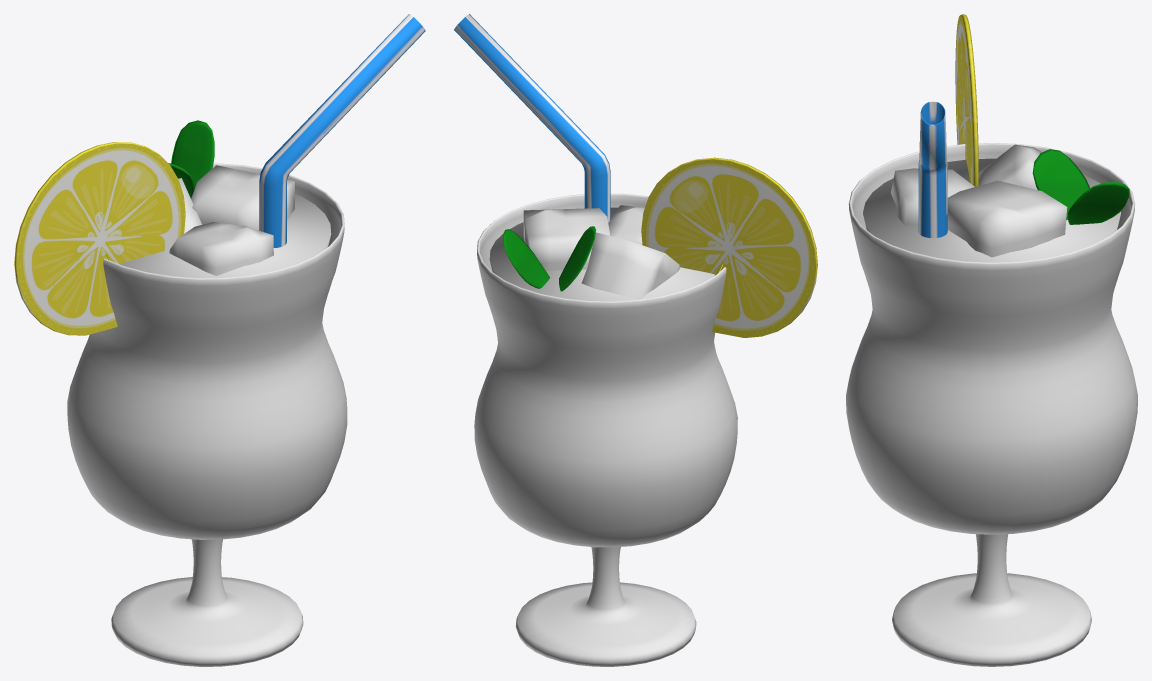
The model's file is blue hawaii_25-04-2022.fbx.
3 renders of one model, left to right at view 1: azimuth 30°, elevation 25°; view 2: azimuth 150°, elevation 25°; view 3: azimuth 270°, elevation 25°, orthographic. The views are drawn at different scales.
Parts seen in each view (by area): view 1: Cylinder, winter, Cube.002, straw, Cylinder.001, leaf.001; view 2: Cylinder, winter, Cube.002, straw, Cylinder.001, leaf.001, leaf; view 3: Cylinder, Cube.002, Cylinder.001, straw, winter, leaf, leaf.001.
Boxes of the visible parts, x1,y1,x2,y2 form: Cylinder: (67, 163, 347, 666); winter: (14, 142, 185, 335); Cube.002: (169, 165, 294, 275); straw: (259, 14, 425, 247); Cylinder.001: (119, 194, 331, 278); leaf.001: (171, 120, 214, 188); Cylinder: (474, 193, 737, 666); winter: (641, 157, 817, 337); Cube.002: (523, 205, 680, 299); straw: (454, 14, 610, 222); Cylinder.001: (489, 207, 714, 301); leaf.001: (503, 229, 549, 288); leaf: (559, 226, 596, 291); Cylinder: (846, 143, 1137, 666); Cube.002: (891, 144, 1067, 257); Cylinder.001: (863, 158, 1120, 262); straw: (918, 101, 947, 238); winter: (955, 14, 978, 186); leaf: (1032, 149, 1089, 220); leaf.001: (1067, 182, 1129, 224).
Size of the model in its own units: 421 by 599 by 258.
7 materials, 4 textured.
